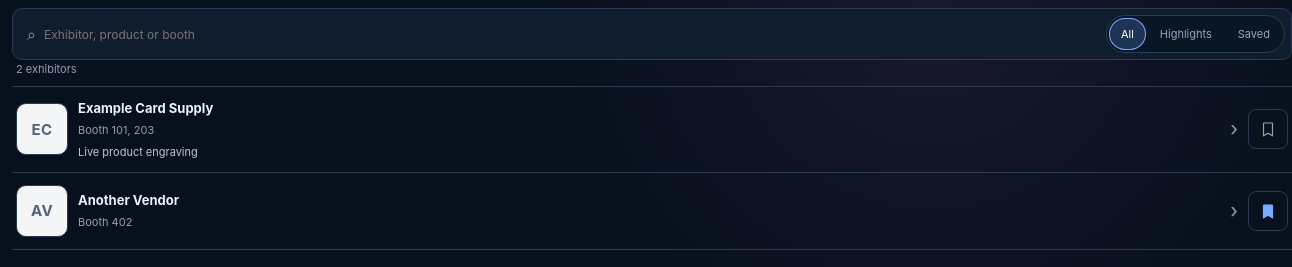
Test: Exhibitor directory › highlights only reviewed booth reasons, not the existence of promotions
Click the button "Highlights" at [1186, 34], box [1148, 18, 1224, 50]
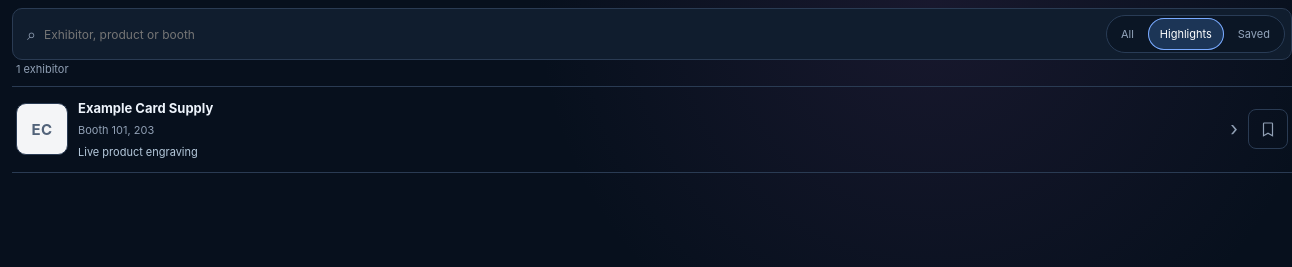
Expected: the text "Live product engraving" is shown, [78, 145, 198, 159]
Expected: the button "Another Vendor" is gone
Type "engraving" into the search field at [567, 34], box [42, 26, 1092, 42]
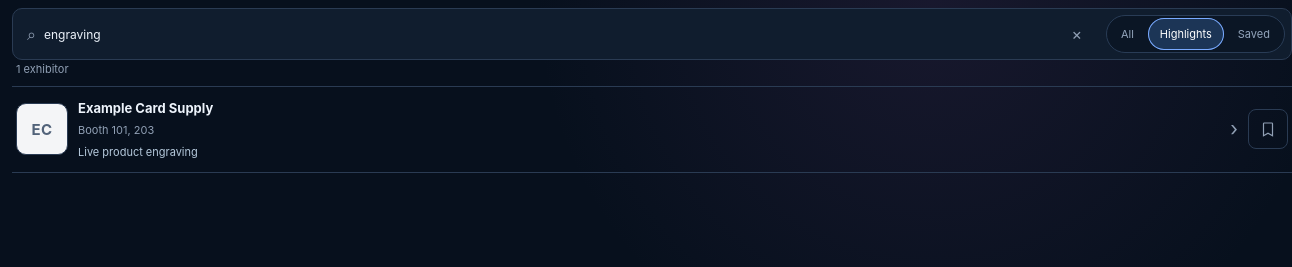
Expected: the text "Example Card Supply" is shown, [78, 100, 213, 116]
Click the button named "Clear exhibitor search" at [1077, 34], box [1062, 17, 1092, 51]
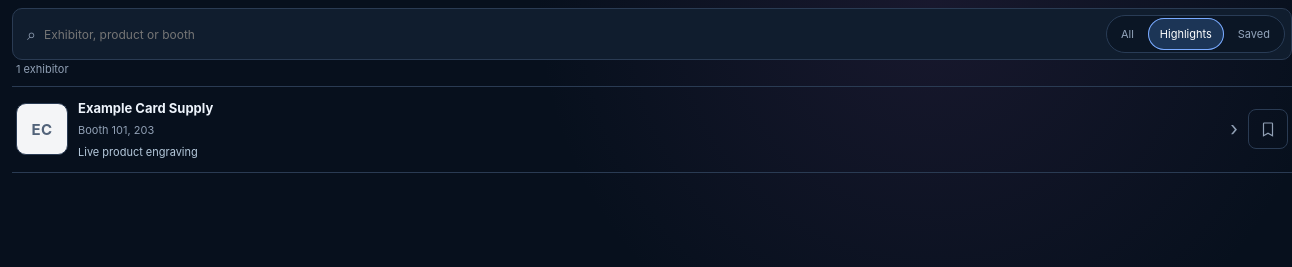
Click the button "All" at [1127, 34], box [1109, 18, 1146, 50]
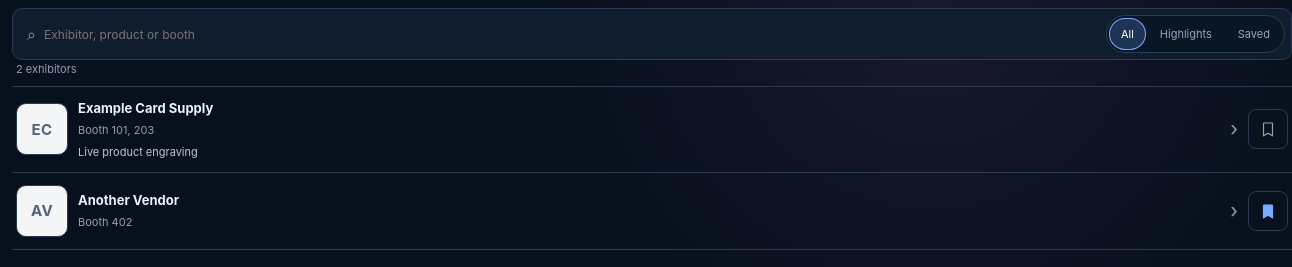
Expected: the text "Another Vendor" is shown, [78, 192, 179, 208]
